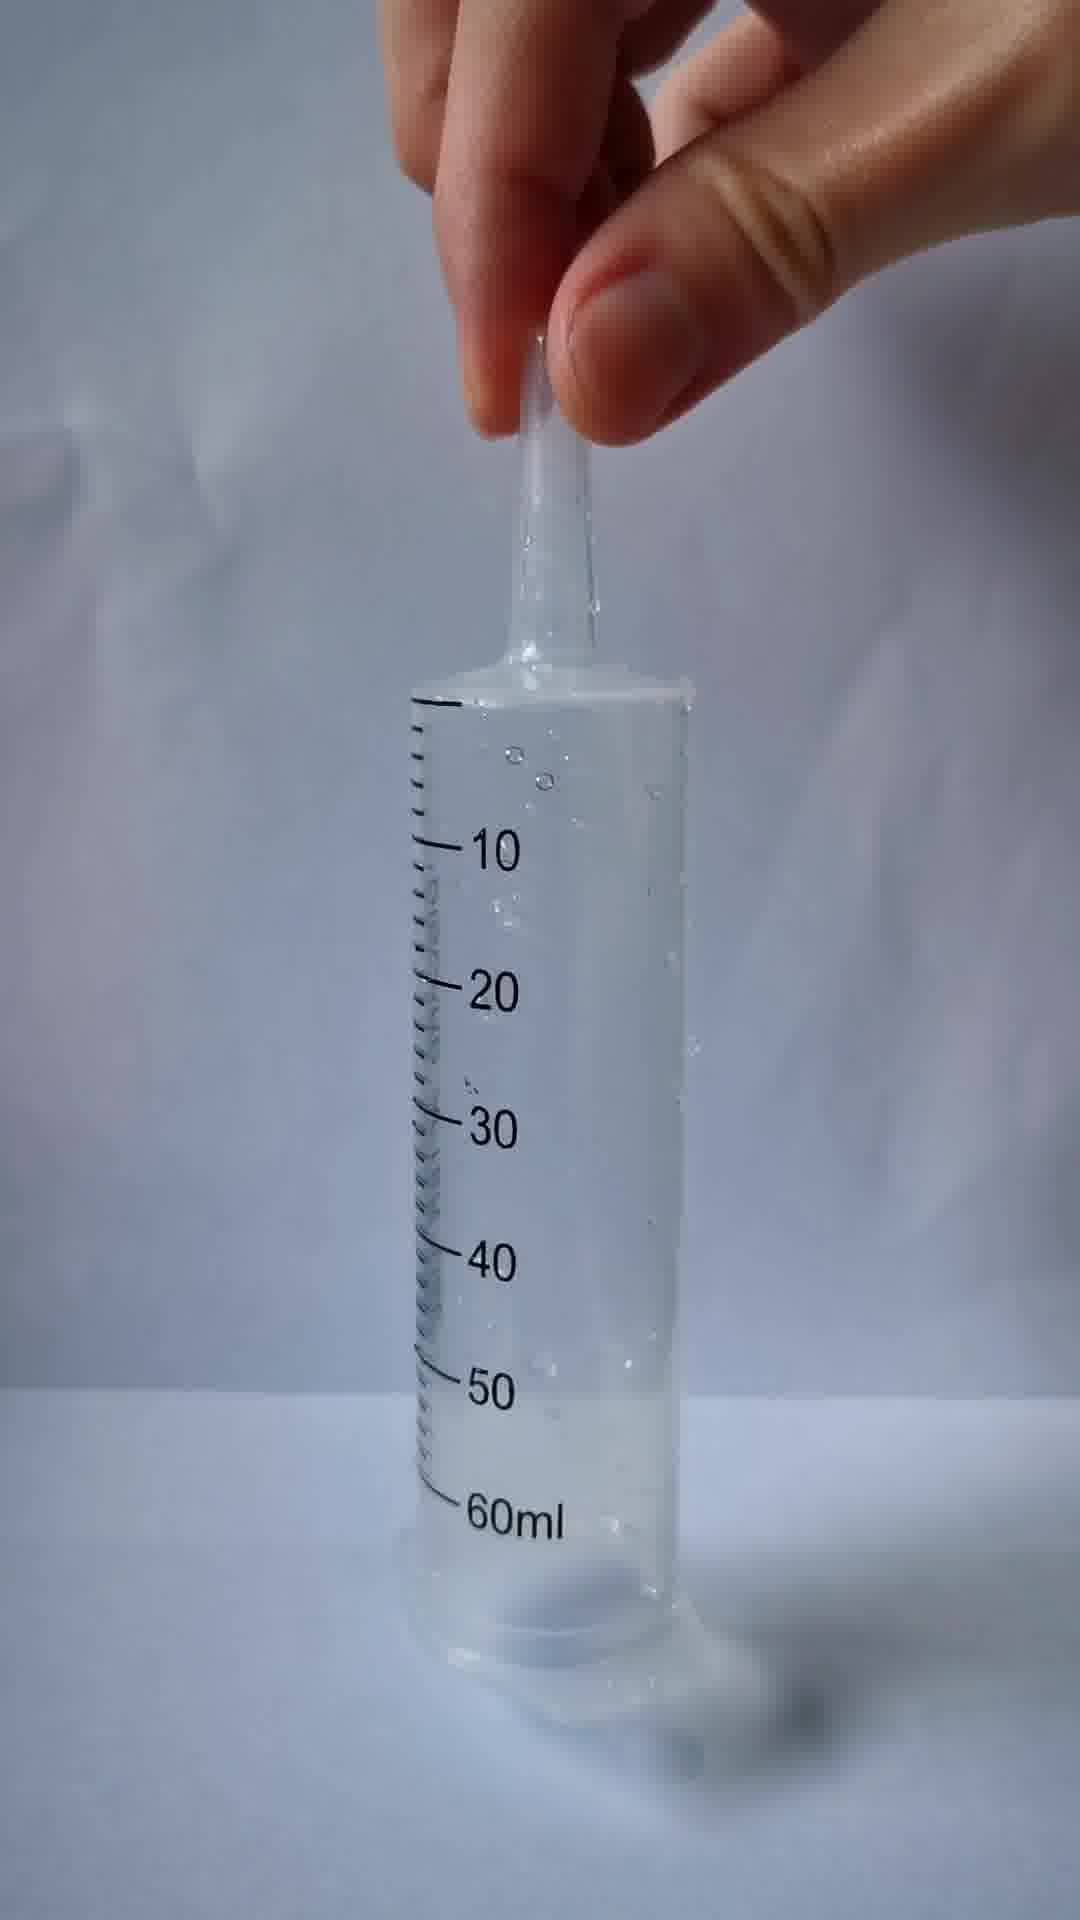syringe: (371, 327, 725, 1717)
